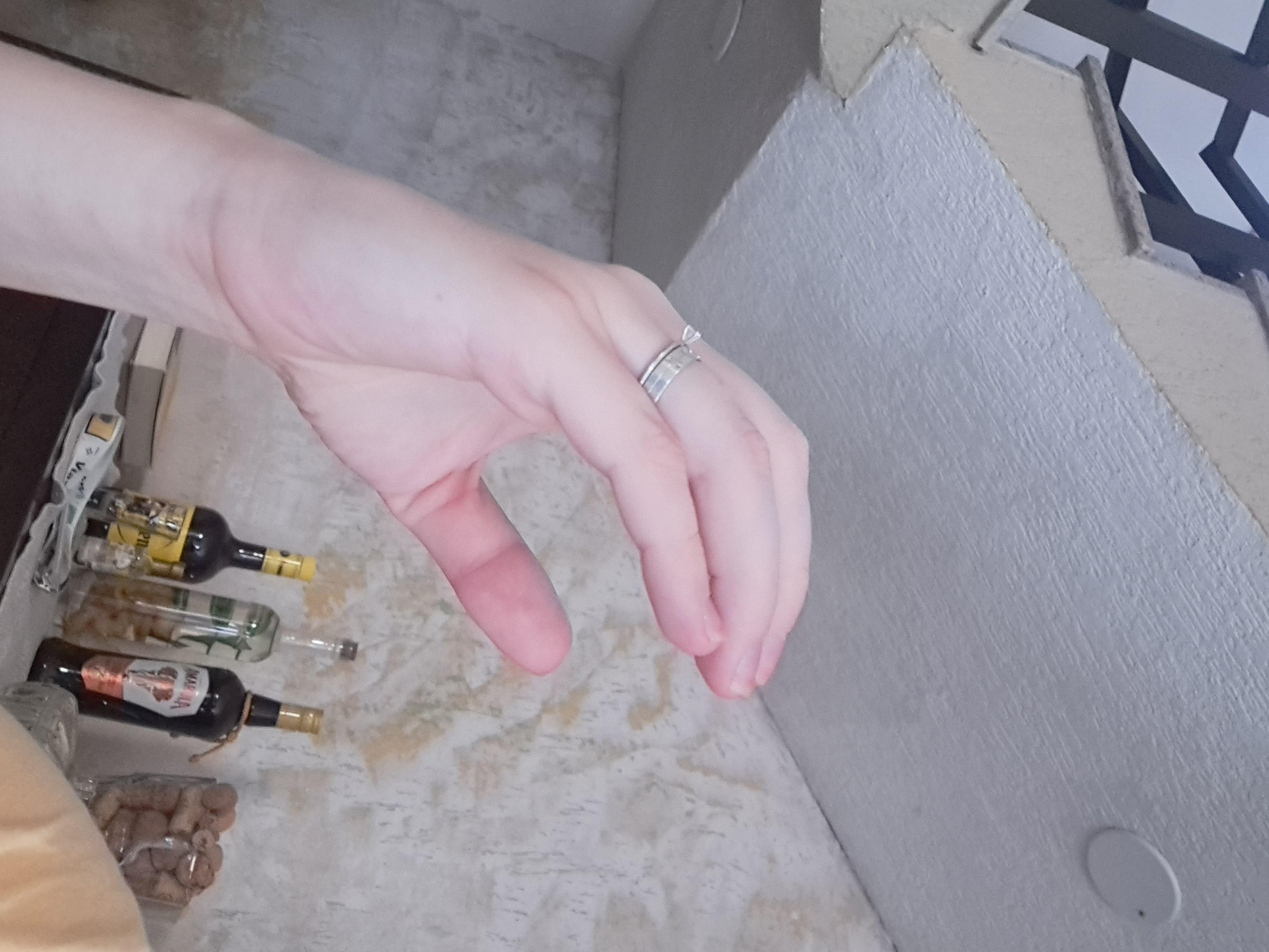C: (207, 332, 943, 796)
